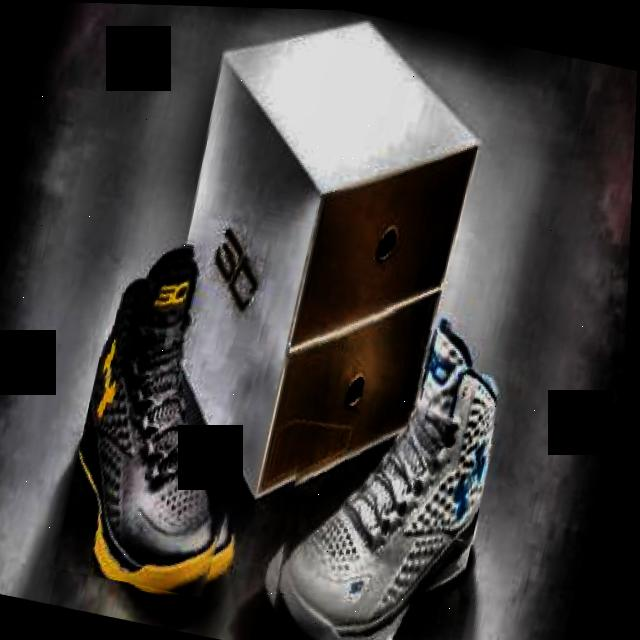shoe: (256, 290, 521, 640), (57, 229, 299, 602)
